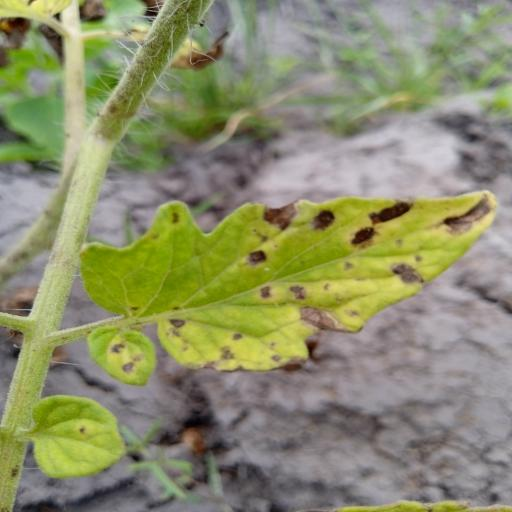Tomato_Brown_Spots: (70, 185, 501, 388)
